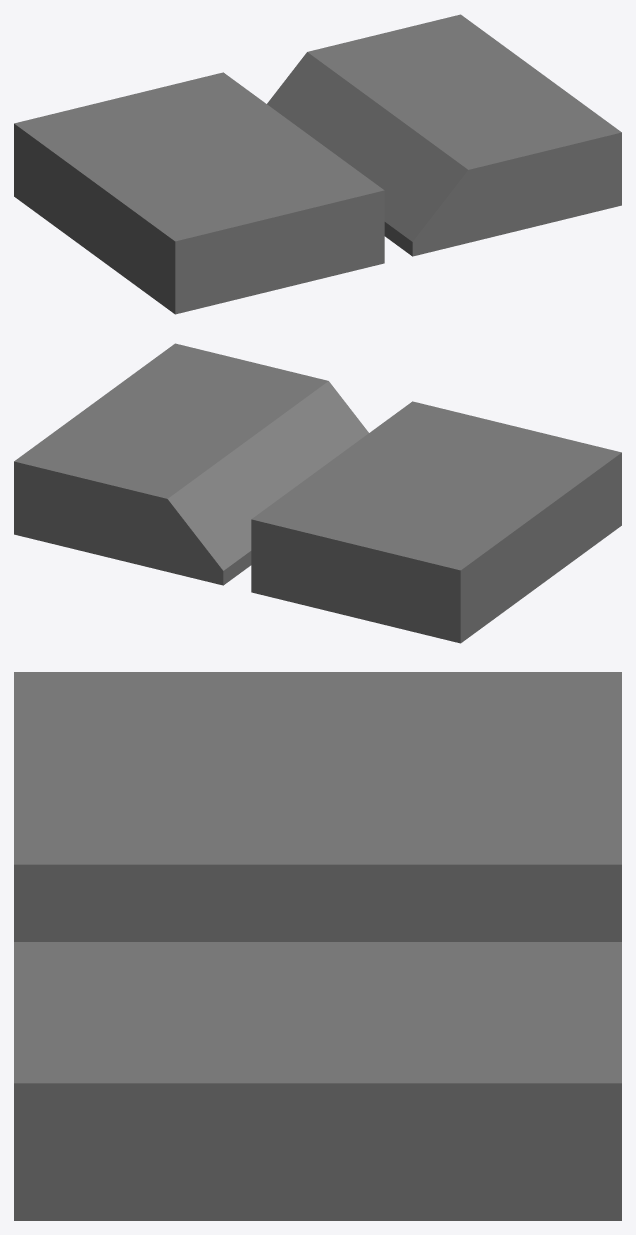
Rendered from С12_Кромки.glb.
The picture shows the model from 3 angles, top to bottom: view 1: azimuth 30°, elevation 25°; view 2: azimuth 150°, elevation 25°; view 3: azimuth 270°, elevation 25°; orthographic projection. The views are drawn at different scales.
Parts seen in each view (by area): view 1: node_id3; view 2: node_id3; view 3: node_id3.
Part boxes in pixels (x1,y1,x2,y2): node_id3: (14, 14, 621, 314); node_id3: (14, 343, 621, 643); node_id3: (14, 672, 621, 1220).
Bounding box in the file's own units: 0.512 × 0.08 × 0.32.
Materials: 1 (1 with a texture image).
